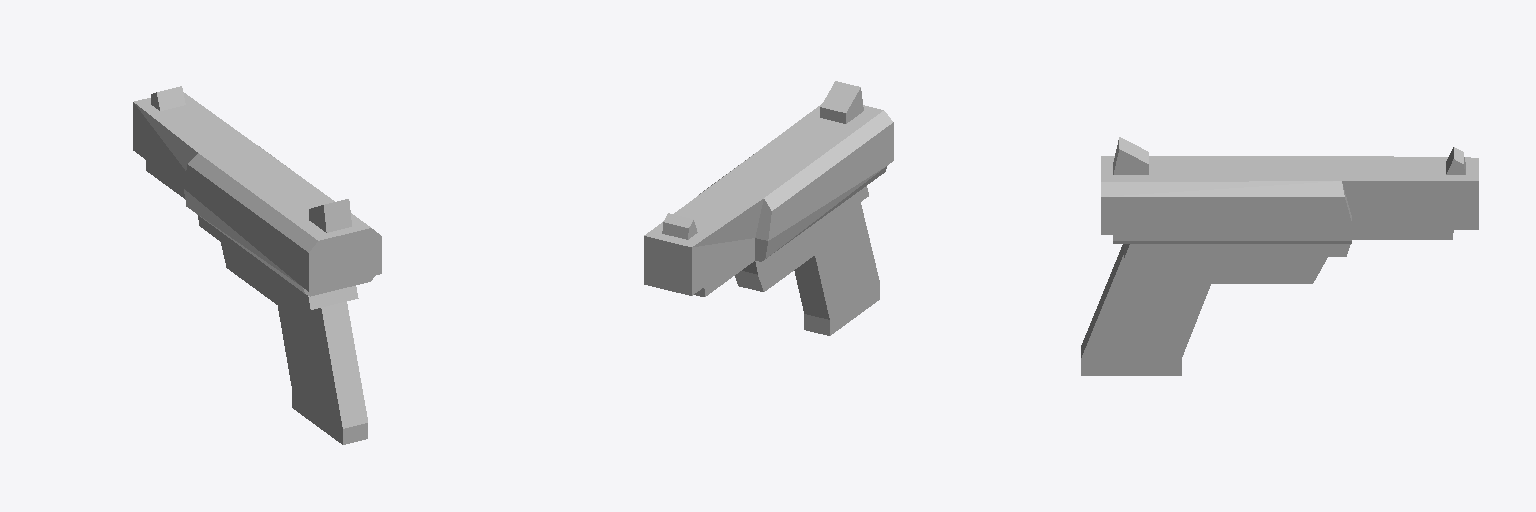
The model's file is gun.obj.
The picture shows the model from 3 angles: view 1: azimuth 30°, elevation 25°; view 2: azimuth 150°, elevation 25°; view 3: azimuth 270°, elevation 25°; orthographic projection.
Parts seen in each view (by area): view 1: Gun; view 2: Gun; view 3: Gun.
Boxes of the visible parts, <box> form: Gun: <box>133,86,381,444</box>; Gun: <box>644,81,893,335</box>; Gun: <box>1081,137,1478,375</box>.
Bounding box in the file's own units: 0.3511 × 1.05 × 1.67.